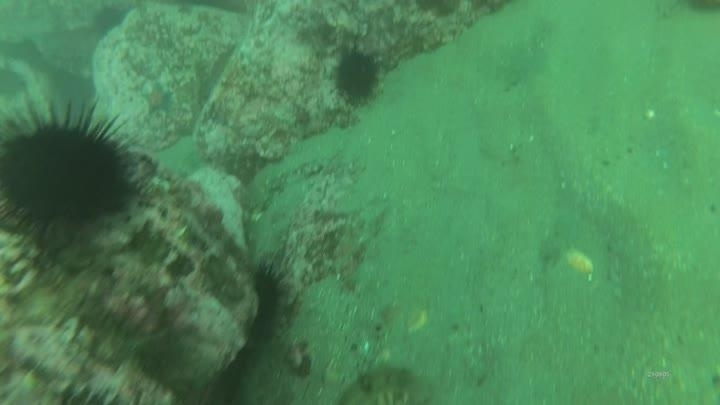echinus: (0, 99, 139, 245), (245, 261, 291, 347), (329, 45, 385, 107)
holothurian: (336, 362, 437, 405)
starfish: (139, 80, 177, 117)
